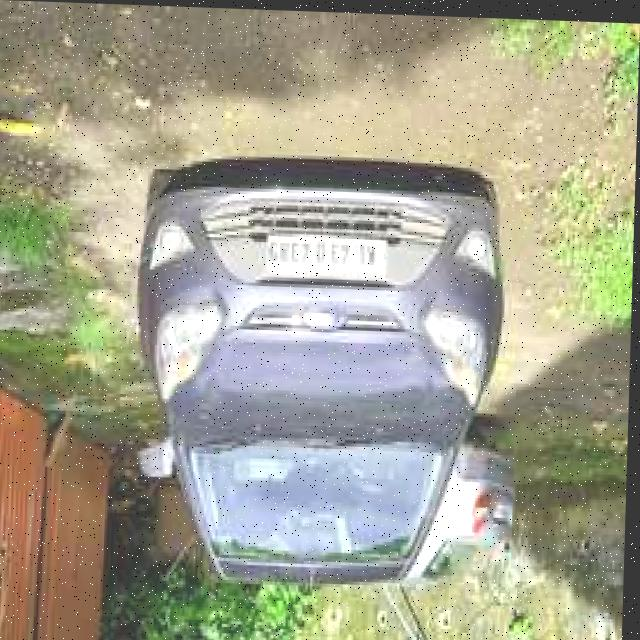plate: (265, 230, 388, 277)
